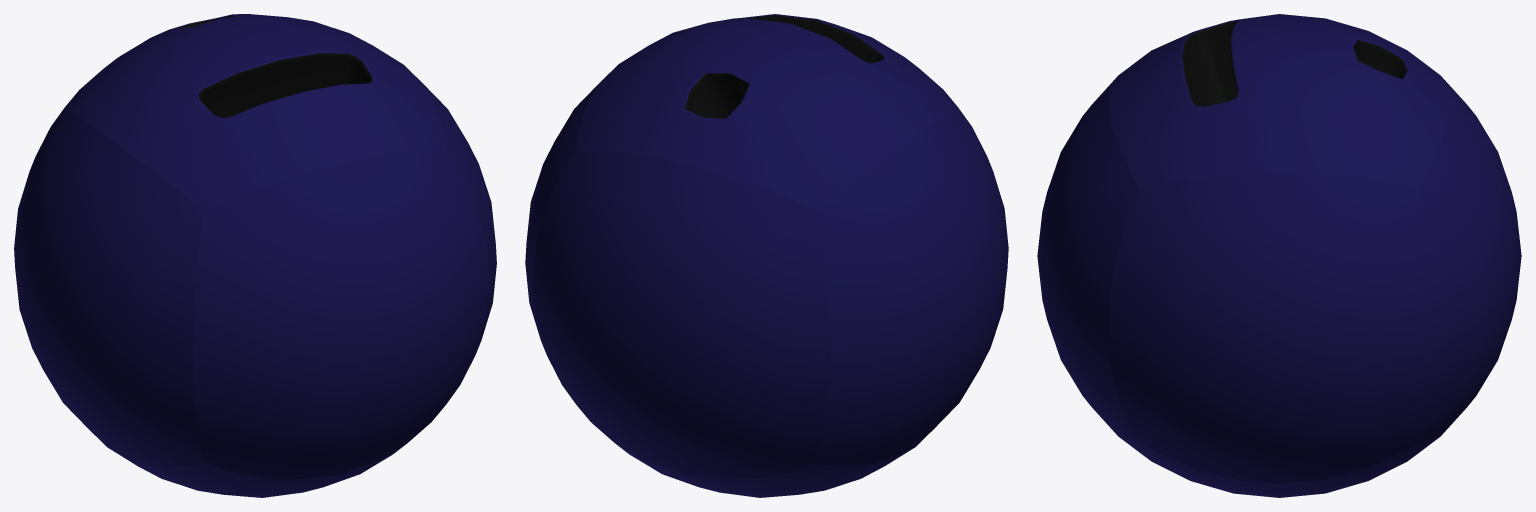
Rendered from bowling ball basic.glb.
The picture shows the model from 3 angles, left to right: view 1: azimuth 30°, elevation 25°; view 2: azimuth 150°, elevation 25°; view 3: azimuth 270°, elevation 25°; orthographic projection.
Visible parts, largest first — view 1: BowlingBall_Static1; view 2: BowlingBall_Static1; view 3: BowlingBall_Static1.
Part boxes in pixels (<box>): BowlingBall_Static1: <box>14,14,496,497</box>; BowlingBall_Static1: <box>525,14,1008,497</box>; BowlingBall_Static1: <box>1037,14,1521,497</box>.
Bounding box in the file's own units: 0.2479 × 0.2479 × 0.2479.
Materials: 1 (1 with a texture image).
